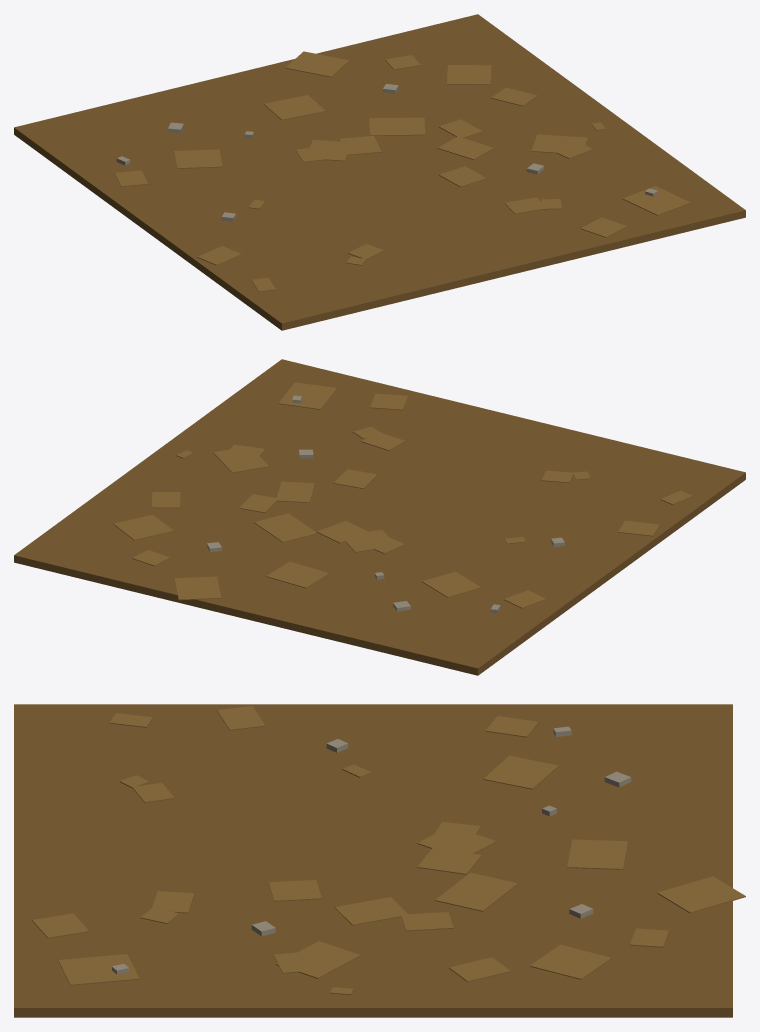
File: barrio-abajo-suelo-calle-tierra.glb
3 views of the same model, one above another, from view 1: azimuth 30°, elevation 25°; view 2: azimuth 150°, elevation 25°; view 3: azimuth 270°, elevation 25° (orthographic). The views are drawn at different scales.
Visible parts, largest first — view 1: suelo_calle_tierra_Tierra, suelo_calle_tierra_TierraClara, suelo_calle_tierra_Piedra; view 2: suelo_calle_tierra_Tierra, suelo_calle_tierra_TierraClara, suelo_calle_tierra_Piedra; view 3: suelo_calle_tierra_Tierra, suelo_calle_tierra_TierraClara, suelo_calle_tierra_Piedra.
Boxes of the visible parts, x1,y1,x2,y2 form: suelo_calle_tierra_Tierra: [14, 14, 745, 330]; suelo_calle_tierra_TierraClara: [114, 51, 690, 291]; suelo_calle_tierra_Piedra: [116, 83, 657, 221]; suelo_calle_tierra_Tierra: [14, 359, 745, 675]; suelo_calle_tierra_TierraClara: [113, 382, 692, 608]; suelo_calle_tierra_Piedra: [207, 395, 564, 613]; suelo_calle_tierra_Tierra: [14, 704, 732, 1017]; suelo_calle_tierra_TierraClara: [32, 706, 745, 995]; suelo_calle_tierra_Piedra: [112, 726, 631, 974].
Bounding box in the file's own units: 8 × 0.18 × 8.14.
